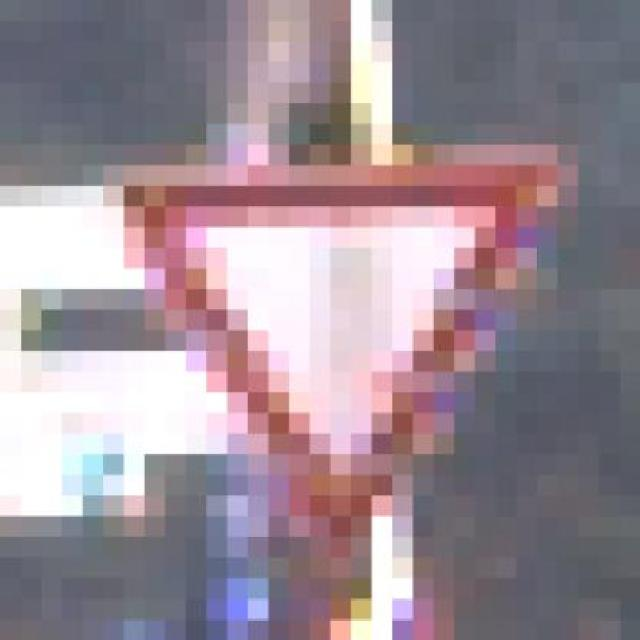Give Way: (41, 103, 578, 557)
